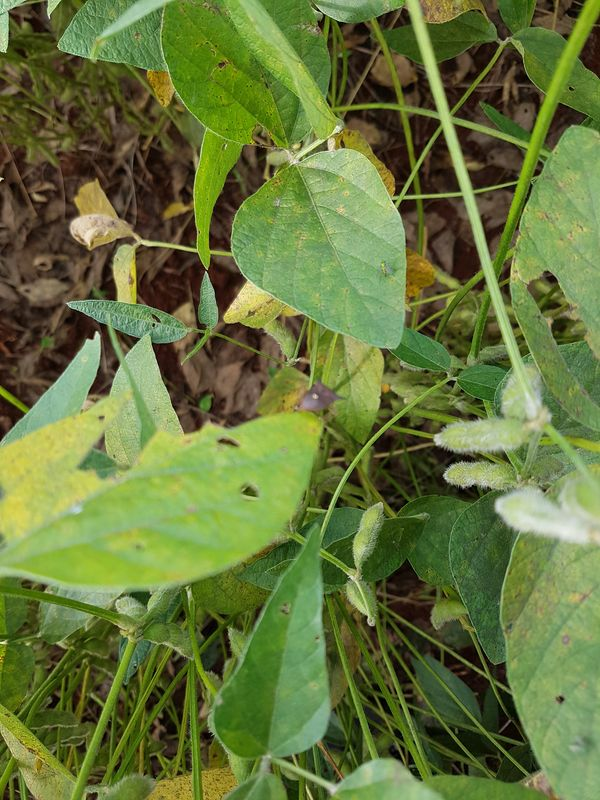Euschistus_heros_adulto: (287, 370, 351, 426)
